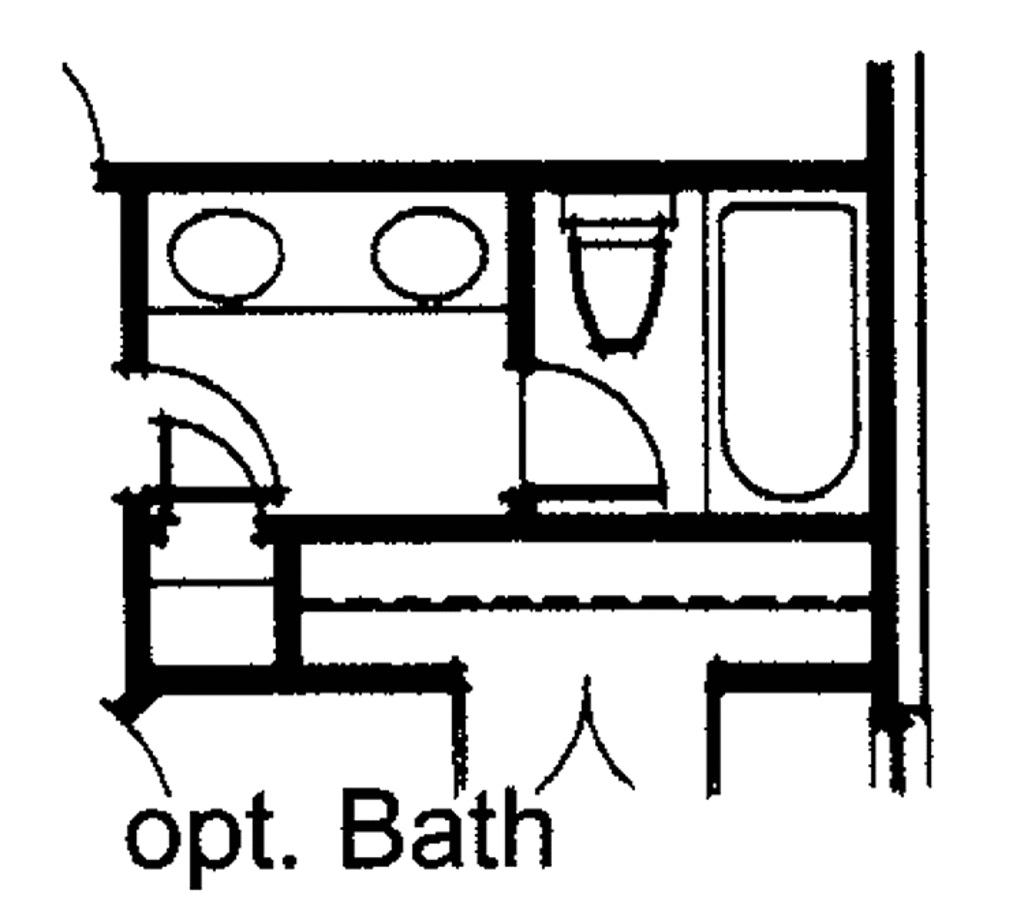door: (510, 362, 674, 516), (123, 361, 284, 487)
large_sink: (560, 197, 672, 358)
small_sink: (334, 186, 508, 314), (148, 187, 296, 313)
tub: (705, 192, 871, 507)
